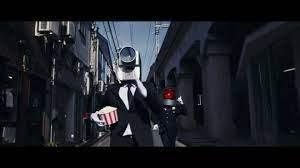no more kid: (115, 45, 148, 85)
